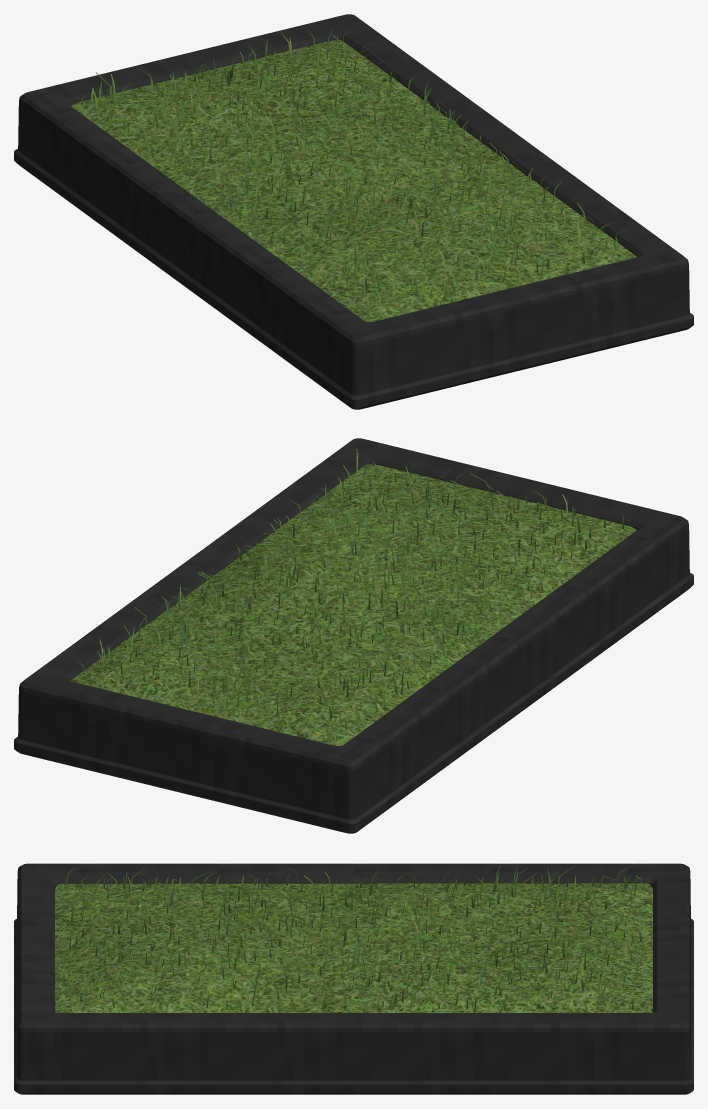
The model's file is flower-rect-grass-far.glb.
3 views of the same model, one above another, from view 1: azimuth 30°, elevation 25°; view 2: azimuth 150°, elevation 25°; view 3: azimuth 270°, elevation 25° (orthographic).
Parts seen in each view (by area): view 1: SM_flower_rect_grass; view 2: SM_flower_rect_grass; view 3: SM_flower_rect_grass.
Part boxes in pixels (x1,y1,x2,y2): SM_flower_rect_grass: (14, 14, 693, 409); SM_flower_rect_grass: (14, 438, 693, 833); SM_flower_rect_grass: (14, 863, 693, 1094).
Bounding box in the file's own units: 0.66 × 0.1887 × 1.14.
Materials: 4 (3 with a texture image).
